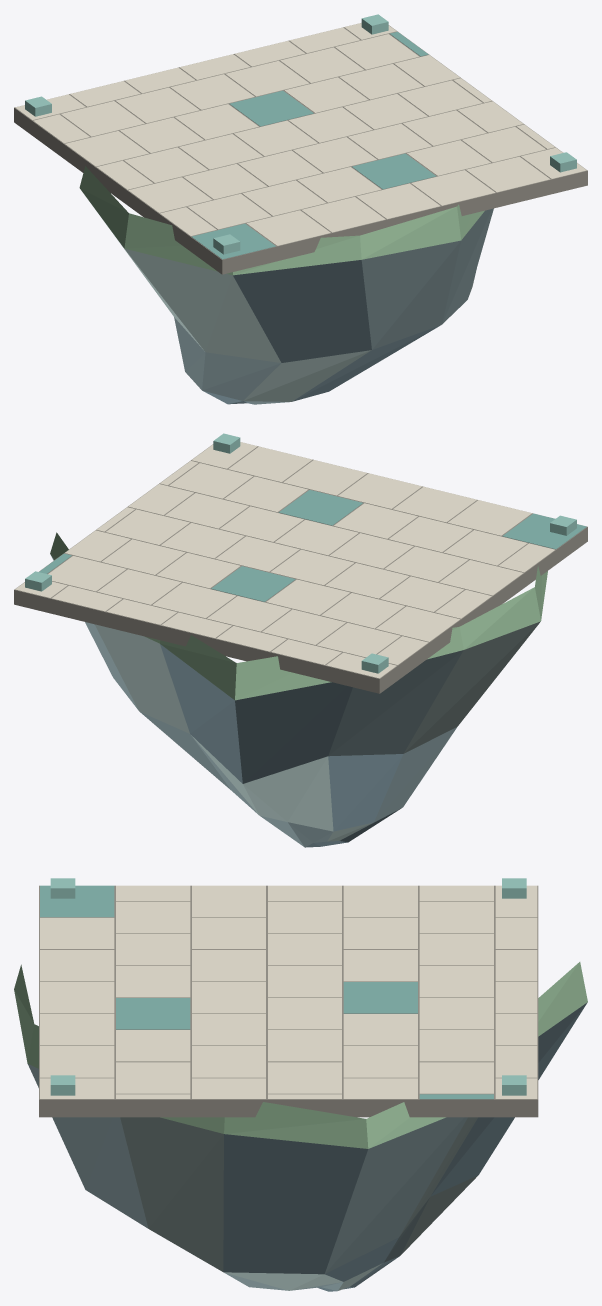
File: FloatingIsland04.glb
3 views of the same model, one above another, from view 1: azimuth 30°, elevation 25°; view 2: azimuth 150°, elevation 25°; view 3: azimuth 270°, elevation 25° (orthographic). The views are drawn at different scales.
Parts seen in each view (by area): view 1: FloatingIsland04; view 2: FloatingIsland04; view 3: FloatingIsland04.
Boxes of the visible parts, box(x1,y1,x2,y2) form: FloatingIsland04: box(14, 14, 587, 404); FloatingIsland04: box(14, 433, 587, 847); FloatingIsland04: box(14, 878, 587, 1291).
Bounding box in the file's own units: 8.15 × 5.06 × 7.94.
